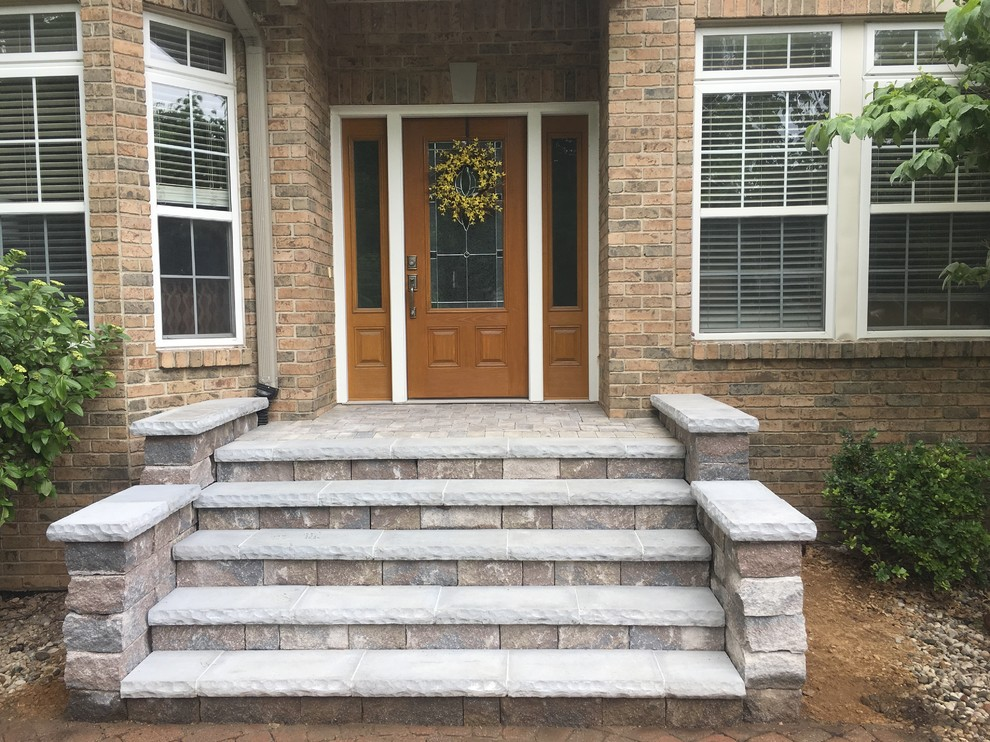upstairs: (236, 437, 671, 742)
